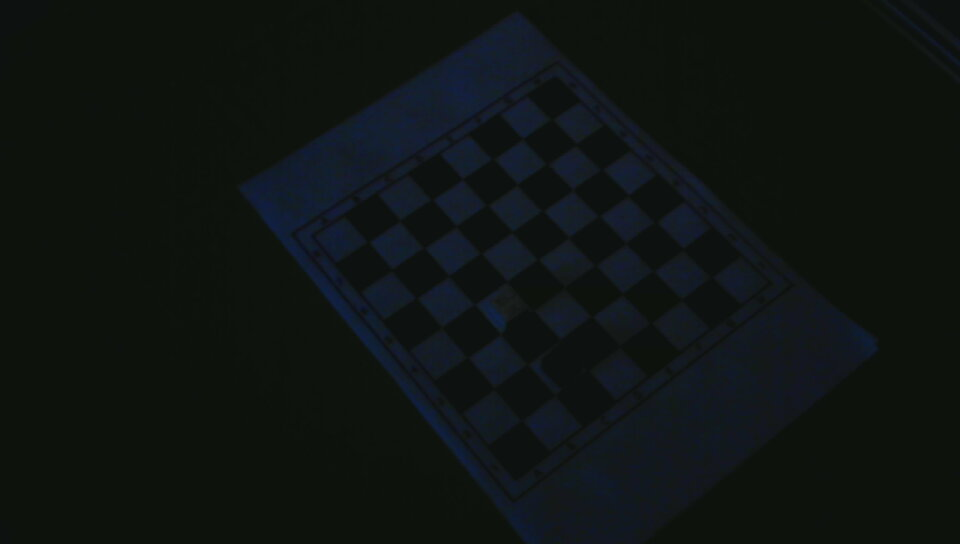bp: (541, 343, 586, 387)
wp: (483, 286, 528, 329)
